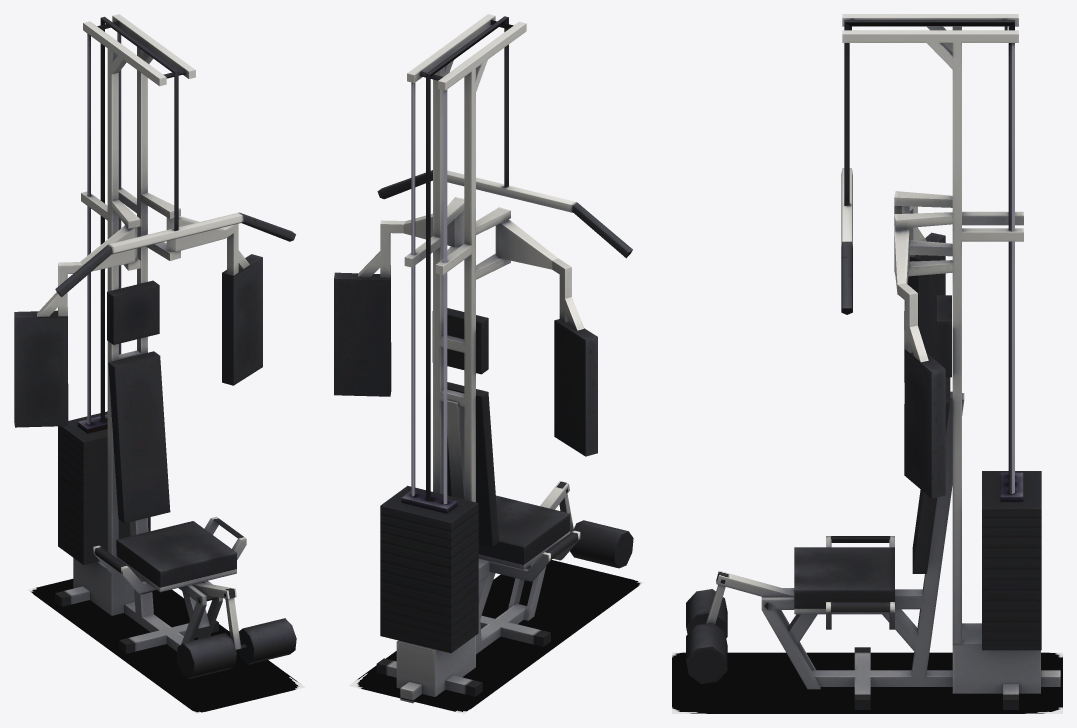
File: jj_ty_jianshen01.FBX
3 views of the same model, side by side, from view 1: azimuth 30°, elevation 25°; view 2: azimuth 150°, elevation 25°; view 3: azimuth 270°, elevation 25° (orthographic). The views are drawn at different scales.
Parts seen in each view (by area): view 1: jj_ty_jianshen01, shadow; view 2: jj_ty_jianshen01, shadow; view 3: jj_ty_jianshen01, shadow.
Part boxes in pixels (x1,y1,x2,y2): jj_ty_jianshen01: (14, 14, 296, 679); shadow: (28, 579, 305, 713); jj_ty_jianshen01: (334, 14, 633, 703); shadow: (349, 560, 643, 713); jj_ty_jianshen01: (686, 14, 1060, 709); shadow: (672, 652, 1062, 713).
Size of the model in its own units: 119 by 264 by 141.
